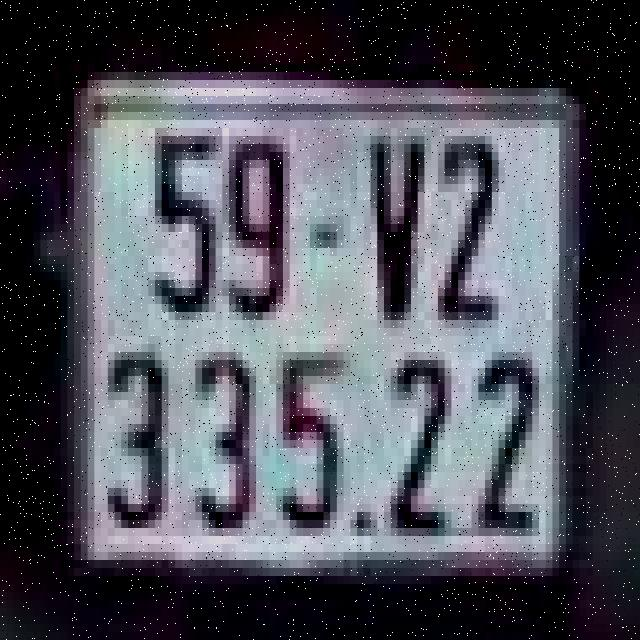2: (435, 128, 522, 336), (468, 348, 549, 540), (384, 348, 458, 540)
3: (94, 336, 182, 536), (188, 340, 262, 540)
5: (142, 116, 222, 324), (276, 340, 351, 532)
9: (226, 136, 300, 328)
V: (360, 116, 428, 332)
